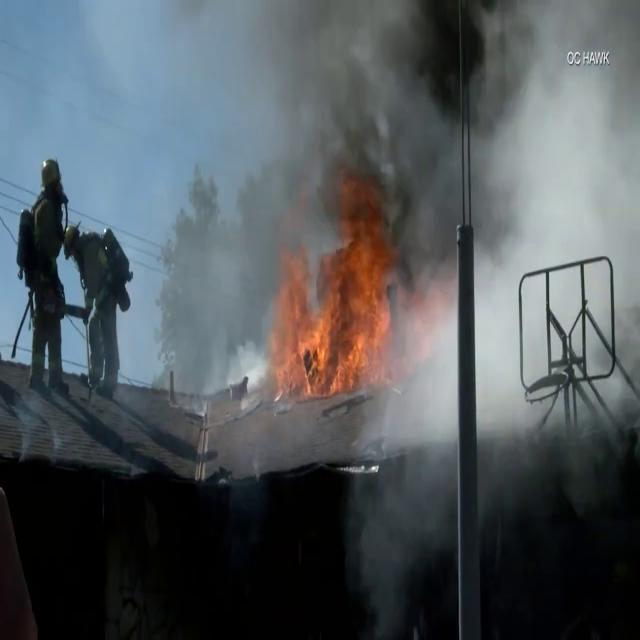Fire: (257, 171, 415, 414)
Smoke: (150, 0, 640, 561)
